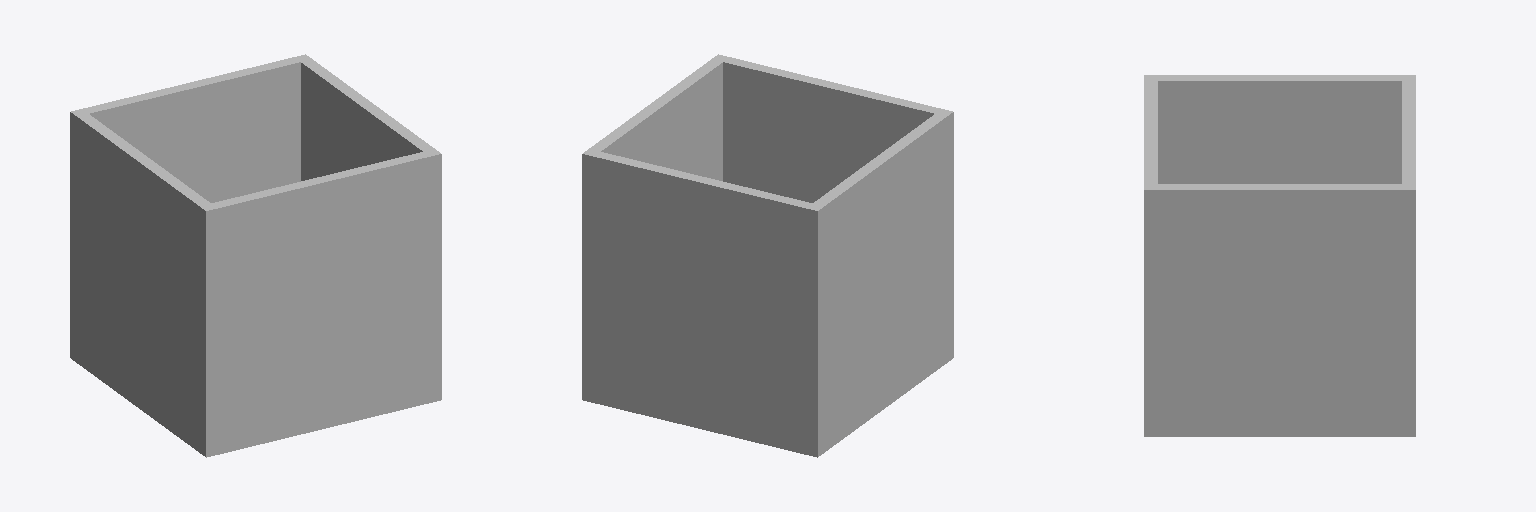
Rendered from tile_empty.obj.
3 views of the same model, side by side, from view 1: azimuth 30°, elevation 25°; view 2: azimuth 150°, elevation 25°; view 3: azimuth 270°, elevation 25° (orthographic).
Parts seen in each view (by area): view 1: tile_empty; view 2: tile_empty; view 3: tile_empty.
Part boxes in pixels (x1,y1,x2,y2): tile_empty: (70,54,441,457); tile_empty: (582,54,953,457); tile_empty: (1144,75,1415,436).
Size of the model in its own units: 40 by 40 by 40.